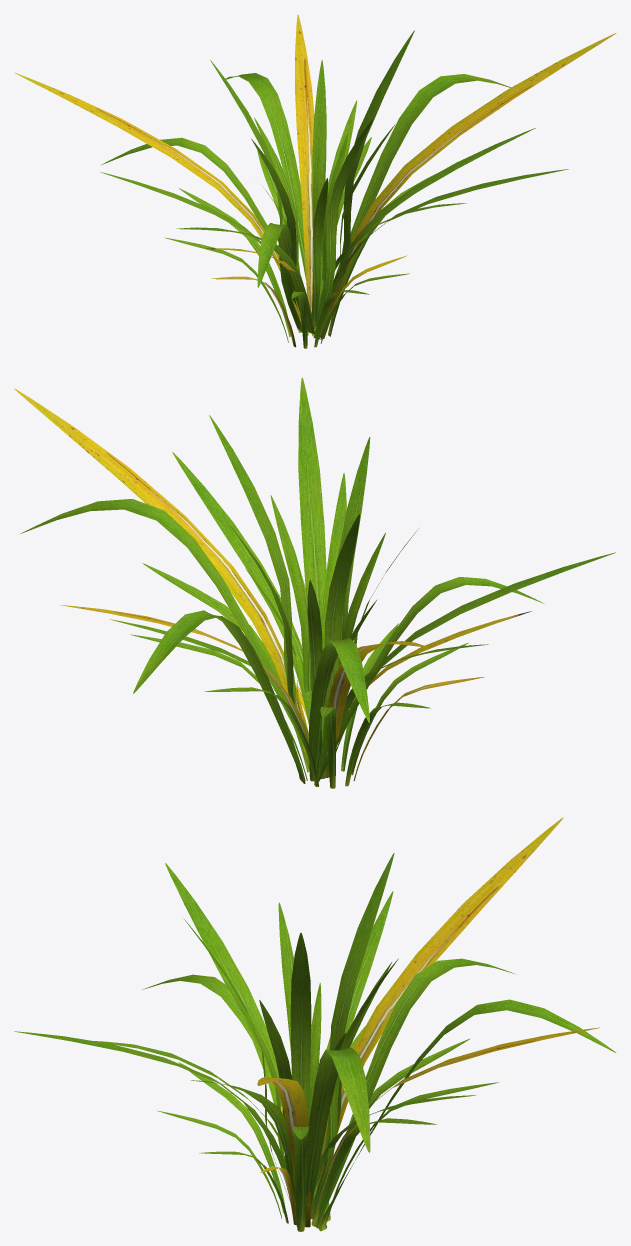
Rendered from asset.glb.
3 renders of one model, top to bottom at view 1: azimuth 30°, elevation 25°; view 2: azimuth 150°, elevation 25°; view 3: azimuth 270°, elevation 25°, orthographic. The views are drawn at different scales.
Parts seen in each view (by area): view 1: Plane.002, Plane.004, Plane.021, Plane.001, Plane.022, Plane.013, Plane.011, Plane.014, Plane.024, Plane.006, Plane.023, Plane.018 (+12 smaller); view 2: Plane.002, Plane.003, Plane.021, Plane.022, Plane.006, Plane.023, Plane.011, Plane.012, Plane.024, Plane.016, Plane.005, Plane.013 (+15 smaller); view 3: Plane.001, Plane.021, Plane.023, Plane.011, Plane.012, Plane.005, Plane.022, Plane.002, Plane.024, Plane.003, Plane.007, Plane.004 (+13 smaller).
Boxes of the visible parts, <box> form: Plane.002: <box>320,33,615,337</box>; Plane.004: <box>295,14,316,330</box>; Plane.021: <box>318,74,510,339</box>; Plane.001: <box>14,72,308,336</box>; Plane.022: <box>225,73,306,280</box>; Plane.013: <box>313,119,373,337</box>; Plane.011: <box>323,30,414,338</box>; Plane.014: <box>312,60,326,256</box>; Plane.024: <box>257,223,302,331</box>; Plane.006: <box>332,128,535,286</box>; Plane.023: <box>101,137,314,336</box>; Plane.018: <box>311,178,327,328</box>; Plane.002: <box>14,388,309,766</box>; Plane.003: <box>298,377,326,769</box>; Plane.021: <box>20,499,303,745</box>; Plane.022: <box>133,610,305,783</box>; Plane.006: <box>172,452,311,725</box>; Plane.023: <box>308,638,369,781</box>; Plane.011: <box>209,415,296,707</box>; Plane.012: <box>319,514,359,779</box>; Plane.024: <box>314,577,544,786</box>; Plane.016: <box>270,495,311,693</box>; Plane.005: <box>336,552,615,749</box>; Plane.013: <box>338,437,370,663</box>; Plane.001: <box>311,817,563,1219</box>; Plane.021: <box>306,1047,370,1208</box>; Plane.023: <box>311,958,515,1227</box>; Plane.011: <box>290,933,311,1226</box>; Plane.012: <box>316,853,394,1210</box>; Plane.005: <box>165,863,282,1106</box>; Plane.022: <box>318,999,615,1231</box>; Plane.002: <box>257,1077,310,1227</box>; Plane.024: <box>142,974,330,1221</box>; Plane.003: <box>14,1031,294,1185</box>; Plane.007: <box>311,891,393,1207</box>; Plane.004: <box>312,1027,599,1216</box>.
Bounding box in the file's own units: 9.5 × 5.44 × 8.45.
1 material, 1 textured.
